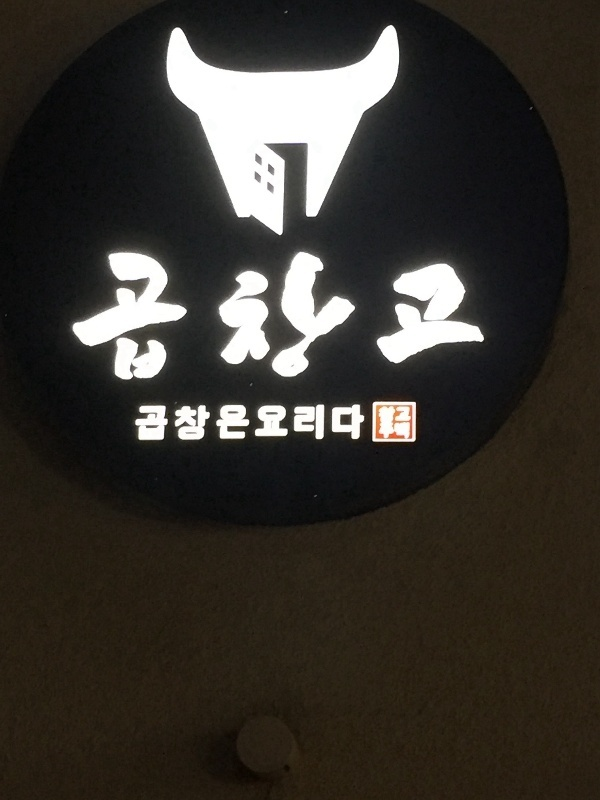text: (81, 247, 96, 392), (97, 247, 112, 392), (113, 247, 128, 392), (129, 247, 144, 392), (145, 247, 160, 392), (161, 247, 176, 392), (177, 247, 192, 392), (193, 247, 208, 392), (209, 247, 224, 392), (225, 247, 240, 392), (241, 247, 256, 392), (257, 247, 272, 392), (273, 247, 288, 392), (289, 247, 304, 392), (305, 247, 320, 392), (321, 247, 336, 392), (337, 247, 352, 392), (353, 247, 368, 392), (369, 247, 384, 392), (385, 247, 400, 392), (401, 247, 416, 392), (417, 247, 432, 392), (433, 247, 448, 392), (449, 247, 464, 392), (465, 247, 480, 392), (481, 247, 496, 392), (68, 247, 80, 392), (145, 401, 160, 445), (161, 401, 176, 445), (177, 401, 192, 445), (193, 401, 208, 445), (209, 401, 224, 445), (225, 401, 240, 445), (241, 401, 256, 445), (257, 401, 272, 445), (273, 401, 288, 445), (289, 401, 304, 445), (305, 401, 320, 445), (321, 401, 336, 445), (337, 401, 352, 445), (353, 401, 366, 445), (385, 406, 400, 442), (135, 401, 144, 445), (401, 406, 412, 442), (377, 406, 384, 442)
